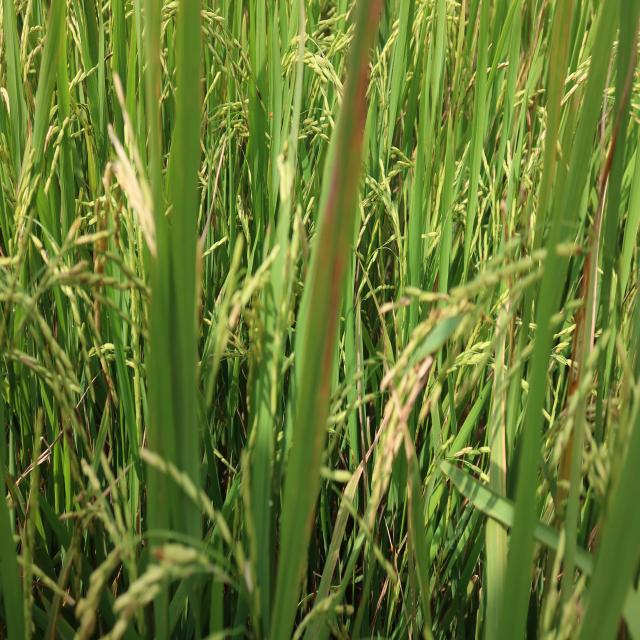Dom soc vi khuan: (321, 248, 342, 408), (322, 142, 340, 261)
